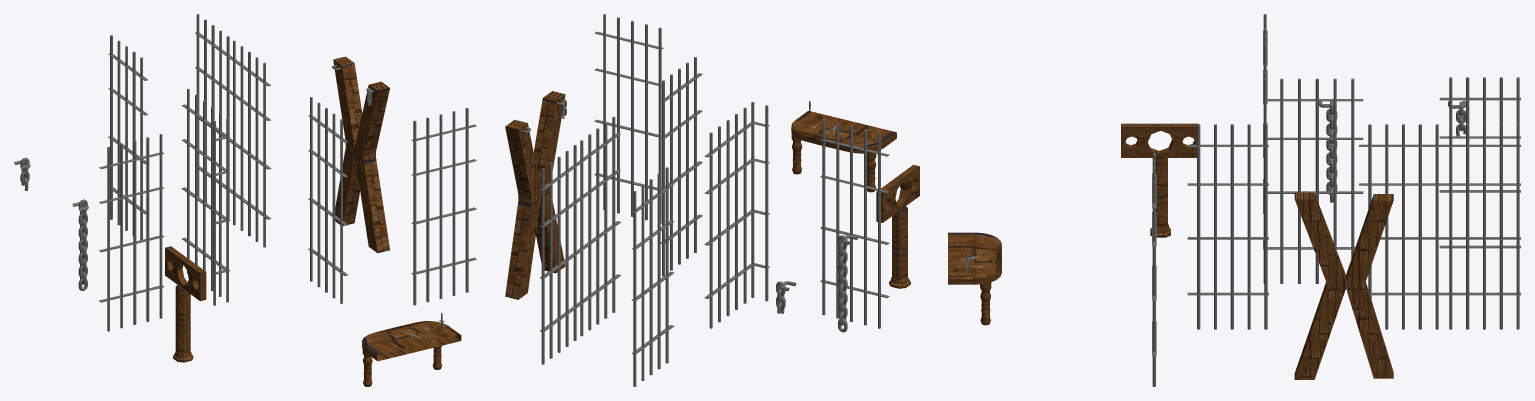
File: Cachot.fbx
3 views of the same model, side by side, from view 1: azimuth 30°, elevation 25°; view 2: azimuth 150°, elevation 25°; view 3: azimuth 270°, elevation 25° (orthographic). The views are drawn at different scales.
Visible parts, largest first — view 1: group1_pTorus13, Barreau_prison10, Barreau_prison6, Barreau_prison14, Barreau_prison7, Barreau_prison5, Barreau_prison15, Table_torture, pCylinder16, group1_pTorus12; view 2: Barreau_prison10, group1_pTorus13, Barreau_prison14, Barreau_prison15, Barreau_prison7, Barreau_prison6, Barreau_prison5, Table_torture, pCylinder16, group1_pTorus12; view 3: Barreau_prison10, group1_pTorus13, Barreau_prison14, Barreau_prison5, pCylinder16, Table_torture, Barreau_prison15, group1_pTorus12, Barreau_prison6.
Boxes of the visible parts, x1,y1,x2,y2 form: group1_pTorus13: [332, 56, 389, 253]; Barreau_prison10: [195, 14, 271, 247]; Barreau_prison6: [411, 108, 476, 305]; Barreau_prison14: [181, 89, 230, 305]; Barreau_prison7: [99, 134, 164, 331]; Barreau_prison5: [308, 97, 347, 303]; Barreau_prison15: [108, 35, 148, 239]; Table_torture: [362, 313, 461, 386]; pCylinder16: [165, 246, 206, 362]; group1_pTorus12: [14, 157, 88, 290]; Barreau_prison10: [540, 116, 620, 364]; group1_pTorus13: [505, 91, 566, 299]; Barreau_prison14: [704, 102, 769, 328]; Barreau_prison15: [631, 167, 674, 386]; Barreau_prison7: [820, 119, 889, 328]; Barreau_prison6: [594, 14, 663, 223]; Barreau_prison5: [660, 57, 702, 276]; Table_torture: [791, 101, 896, 192]; pCylinder16: [876, 164, 919, 288]; group1_pTorus12: [776, 235, 858, 332]; Barreau_prison10: [1359, 124, 1520, 329]; group1_pTorus13: [1294, 191, 1393, 379]; Barreau_prison14: [1263, 71, 1363, 283]; Barreau_prison5: [1187, 124, 1268, 329]; pCylinder16: [1121, 123, 1198, 237]; Table_torture: [948, 232, 1001, 325]; Barreau_prison15: [1439, 77, 1520, 248]; group1_pTorus12: [1319, 100, 1465, 202]; Barreau_prison6: [1152, 153, 1156, 386].
Size of the model in its own units: 776 by 420 by 1062.
